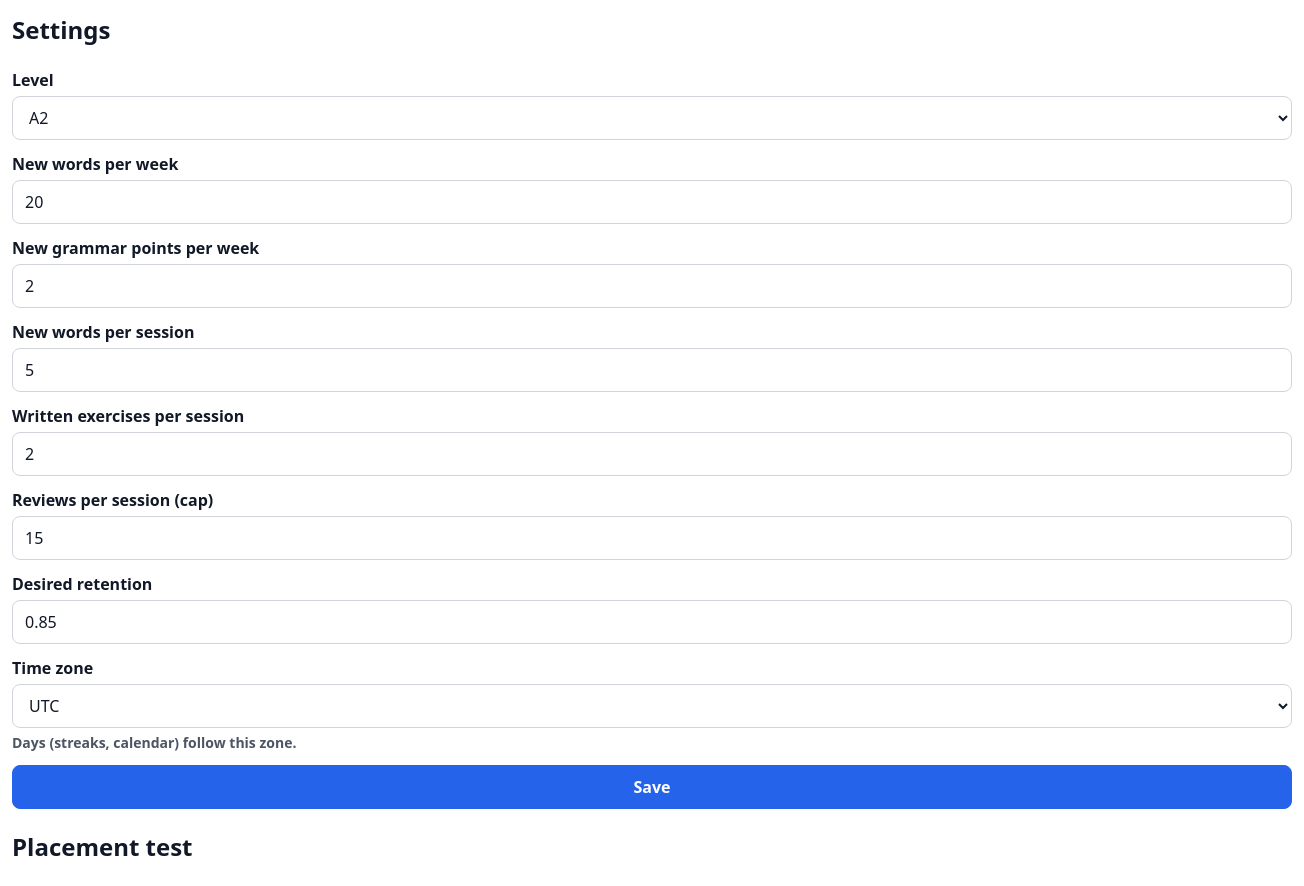
Test: SettingsView › shows a server error on save
What coordinates should you click on to do the following:
click the button "Save"
I would click on:
 (652, 787)
Its box is [12,765,1292,809].
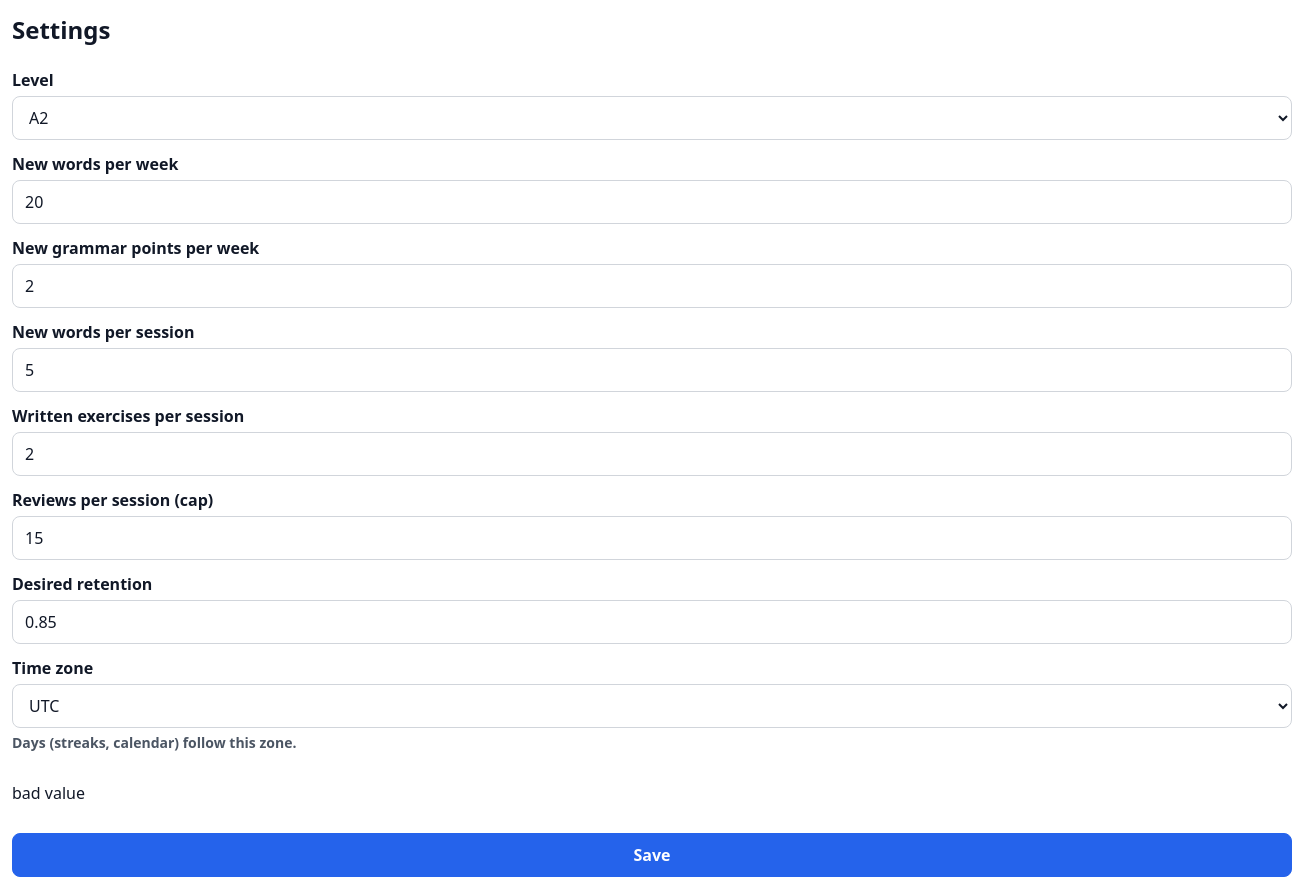
Expected: the text "bad value" is shown, [12,782,85,804]
